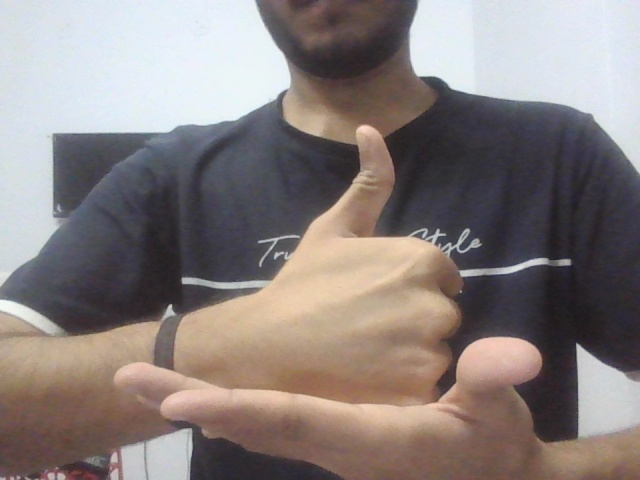Help: (102, 103, 563, 480)
